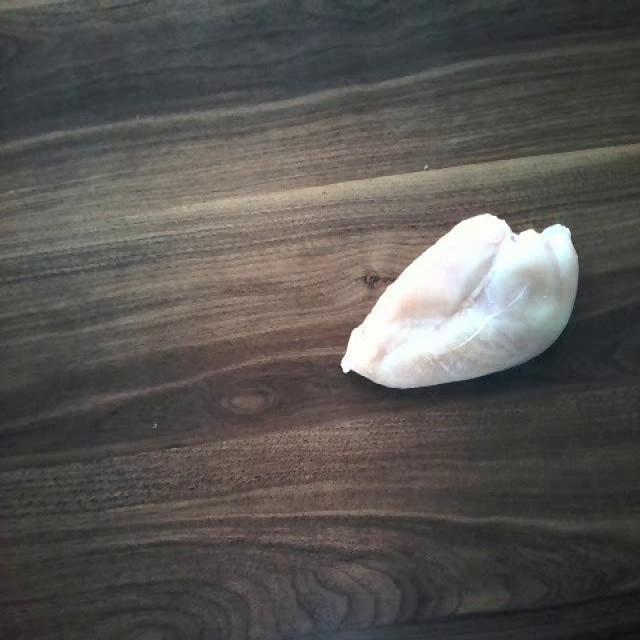breast: (338, 204, 576, 400)
